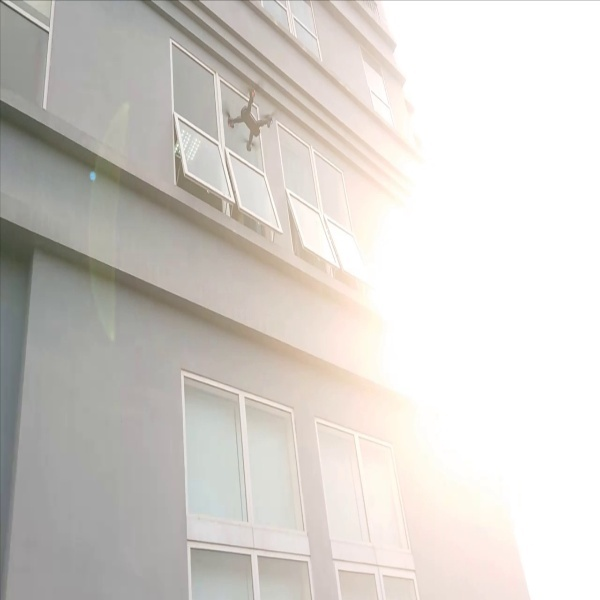drone: (214, 71, 277, 153)
